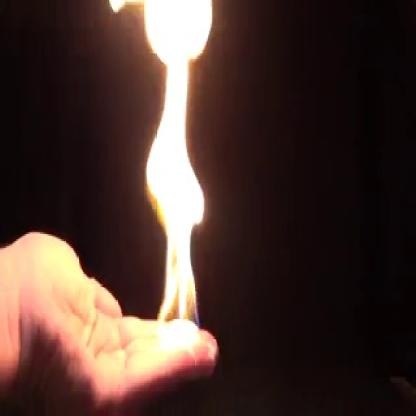fire: (138, 0, 216, 343)
